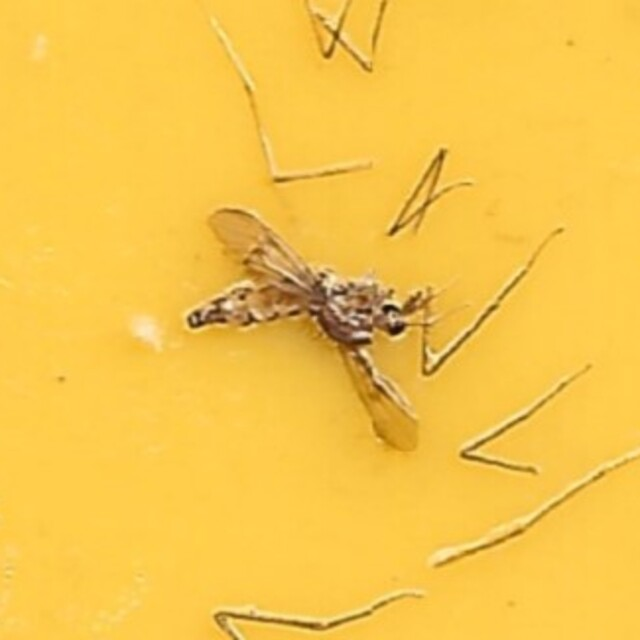Nematocera: (197, 190, 443, 450)
